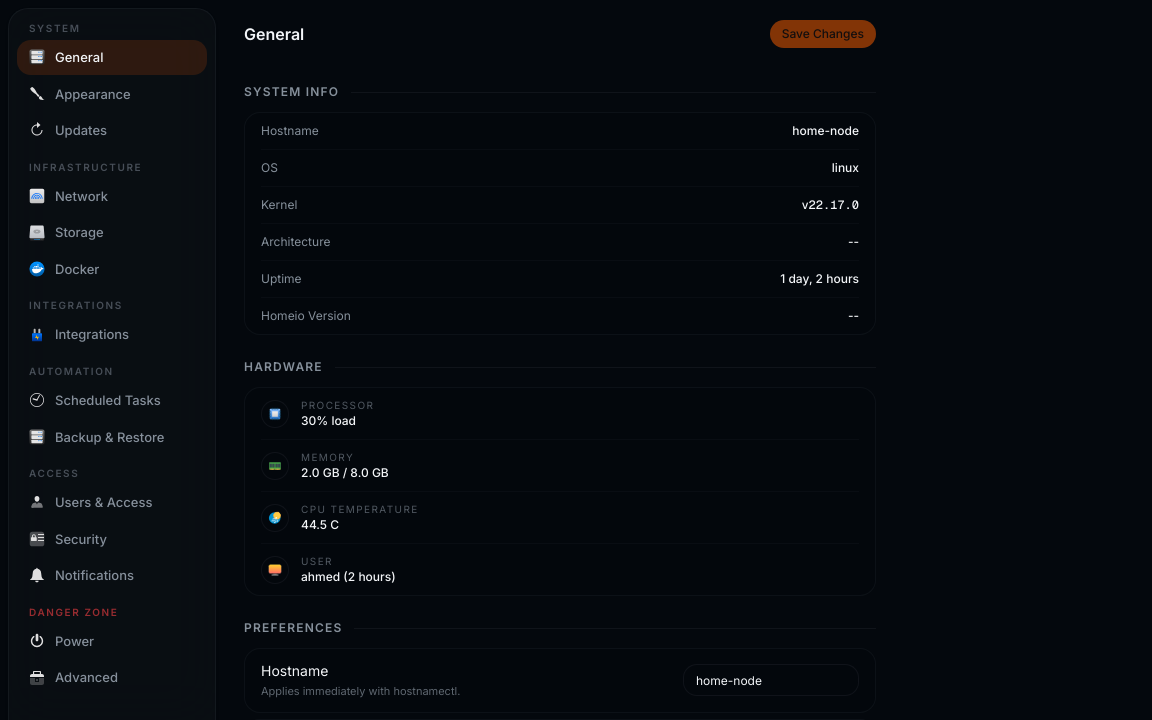
Scenario: SettingsPanel › renders users section in single-user mode
This screenshot has width=1152, height=720.
What coordinates should you click on to do the following:
click the button "Users & Access"
I would click on:
 (112, 502)
Its box is [17,485,207,520].
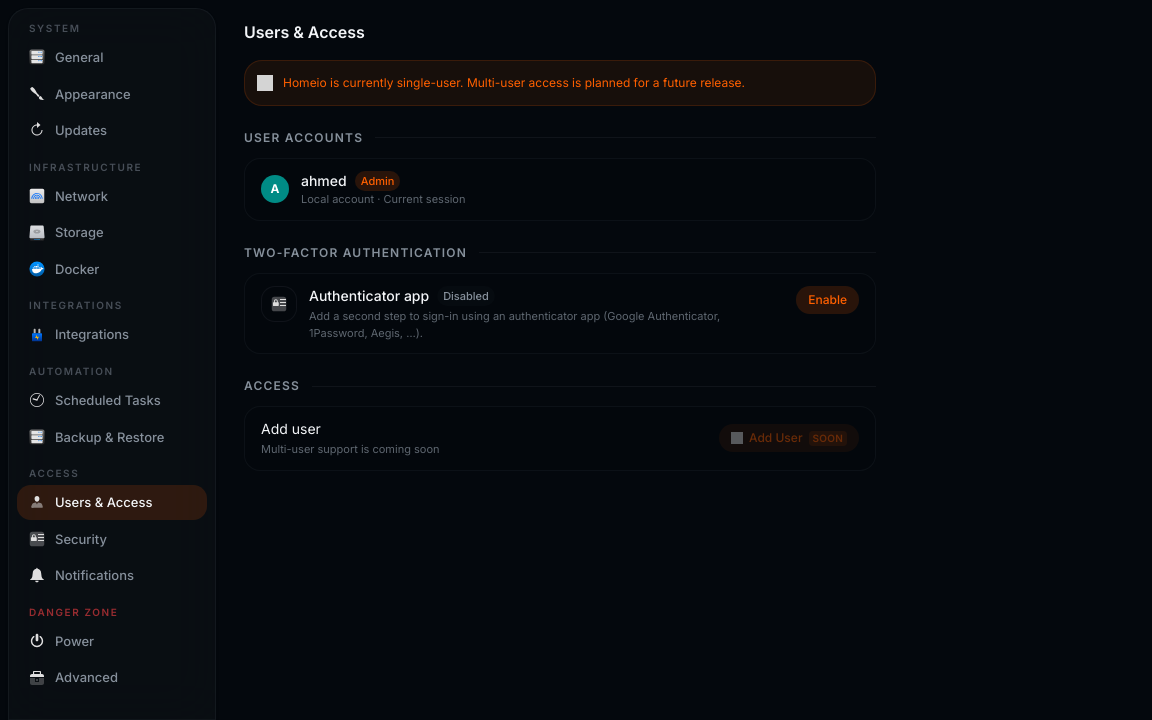
Now the text "Homeio is currently single-user. Multi-user access is planned for a future release." is shown, box [283,75,745,90]
Now the text "Soon" is shown, box [808,431,847,446]
Now the button "Add User Soon" is disabled, box [719,424,859,452]
